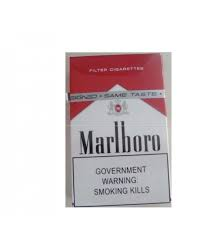marlboro: (74, 53, 163, 206)
